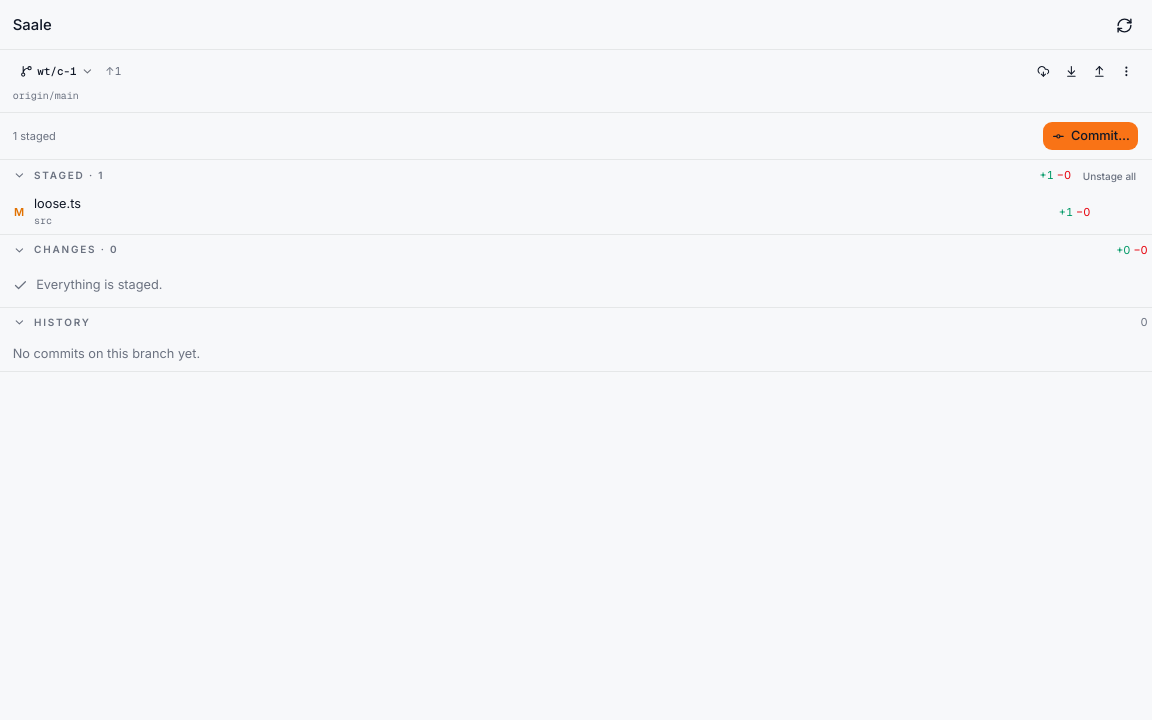
ChangesView: committing › keeps Commit disabled until there is a message
Click the button "Commit…": (1091, 136) [1042,121,1139,151]
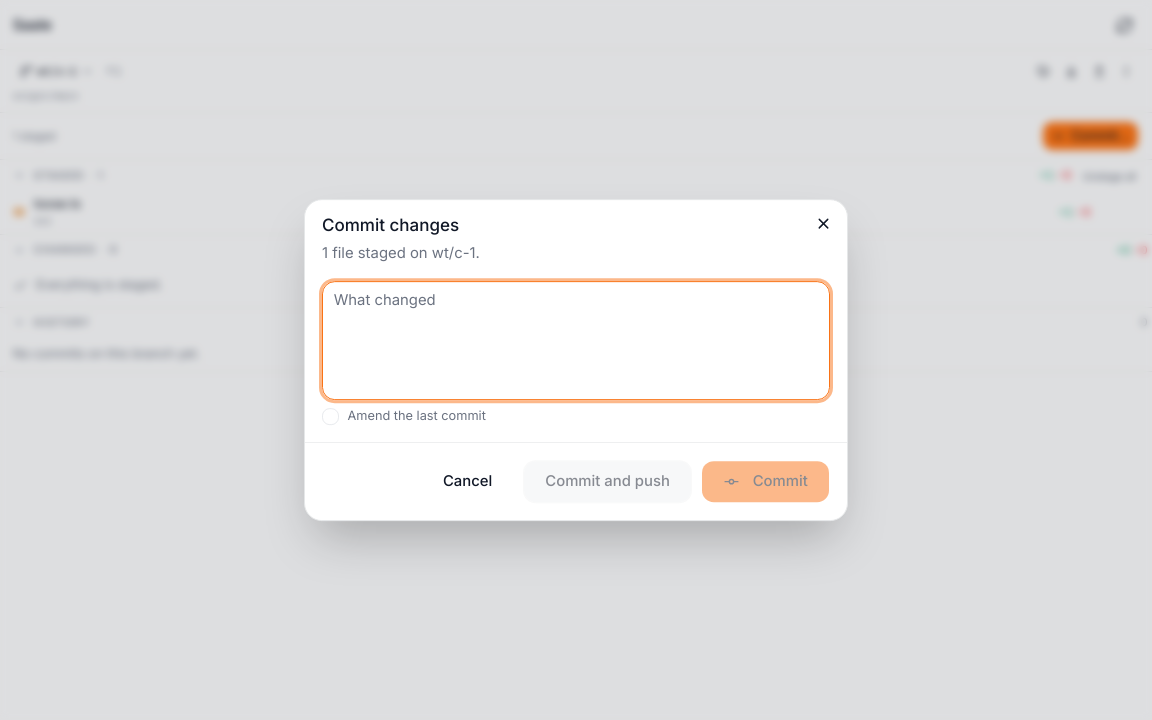
Expected: the button "Commit" is disabled, [701,460,830,503]
